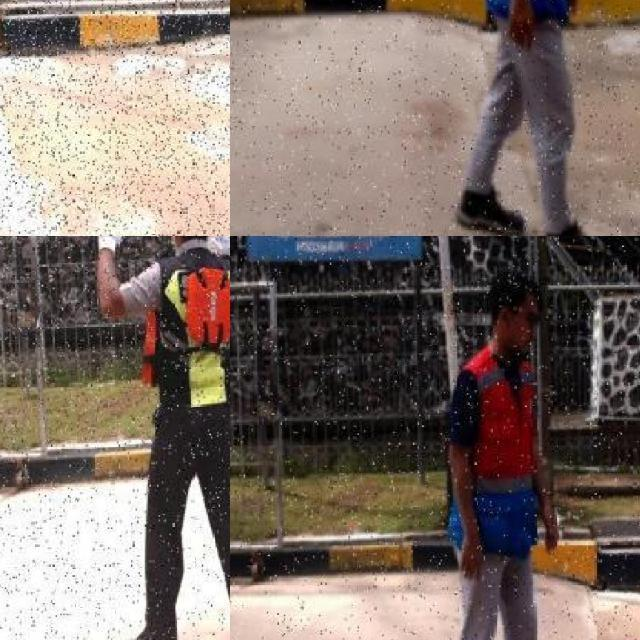apron: (96, 236, 127, 255), (209, 236, 230, 260)
